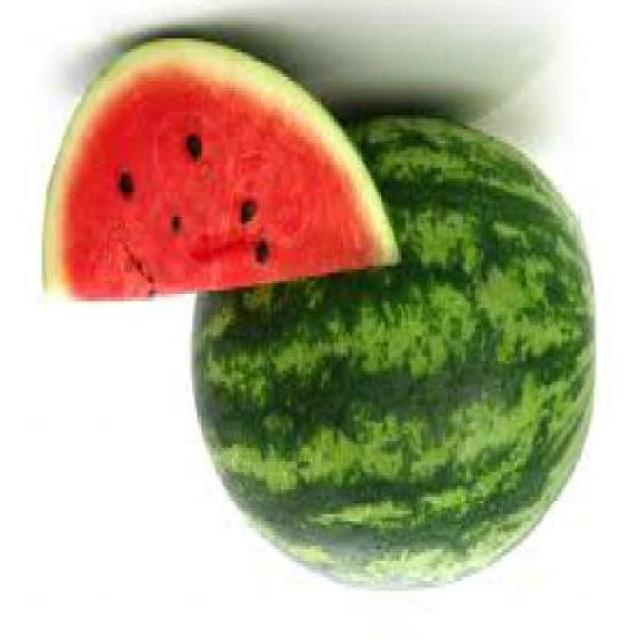BIODEGRADABLE: (187, 115, 596, 594), (37, 39, 403, 308)
